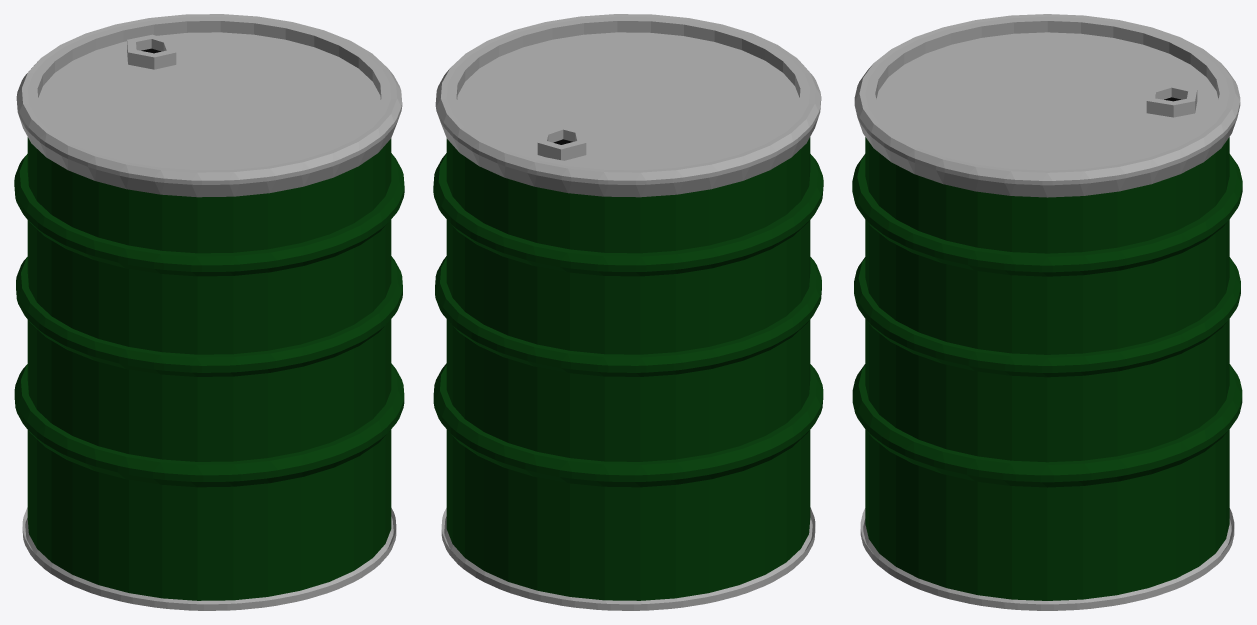
The model's file is GREENBarrel (1).fbx.
3 renders of one model, left to right at view 1: azimuth 30°, elevation 25°; view 2: azimuth 150°, elevation 25°; view 3: azimuth 270°, elevation 25°, orthographic.
Parts seen in each view (by area): view 1: Cylinder; view 2: Cylinder; view 3: Cylinder.
Boxes of the visible parts, x1,y1,x2,y2 form: Cylinder: (14,14,404,610); Cylinder: (433,14,823,610); Cylinder: (852,14,1242,610).
Bounding box in the file's own units: 241 × 300 × 241.
